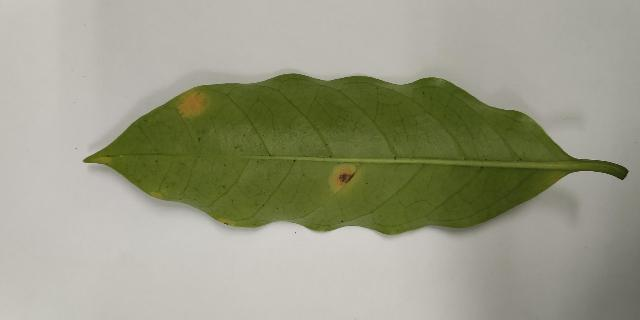miner: (178, 90, 207, 117), (331, 165, 357, 193)
